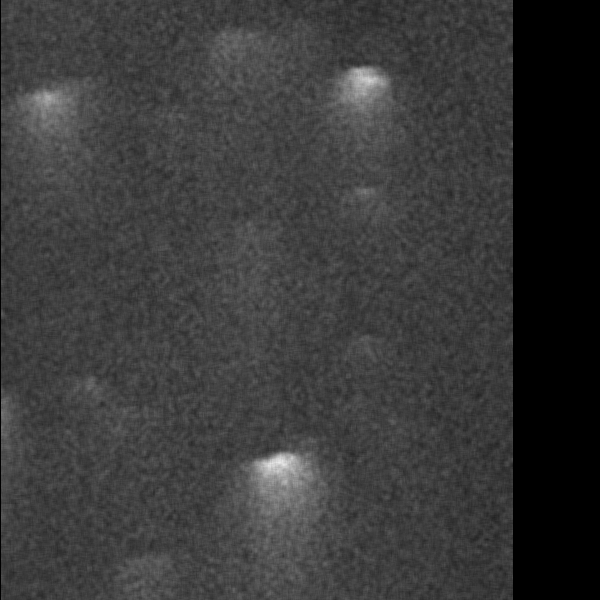spark: (146, 45, 196, 106), (165, 437, 221, 463)
